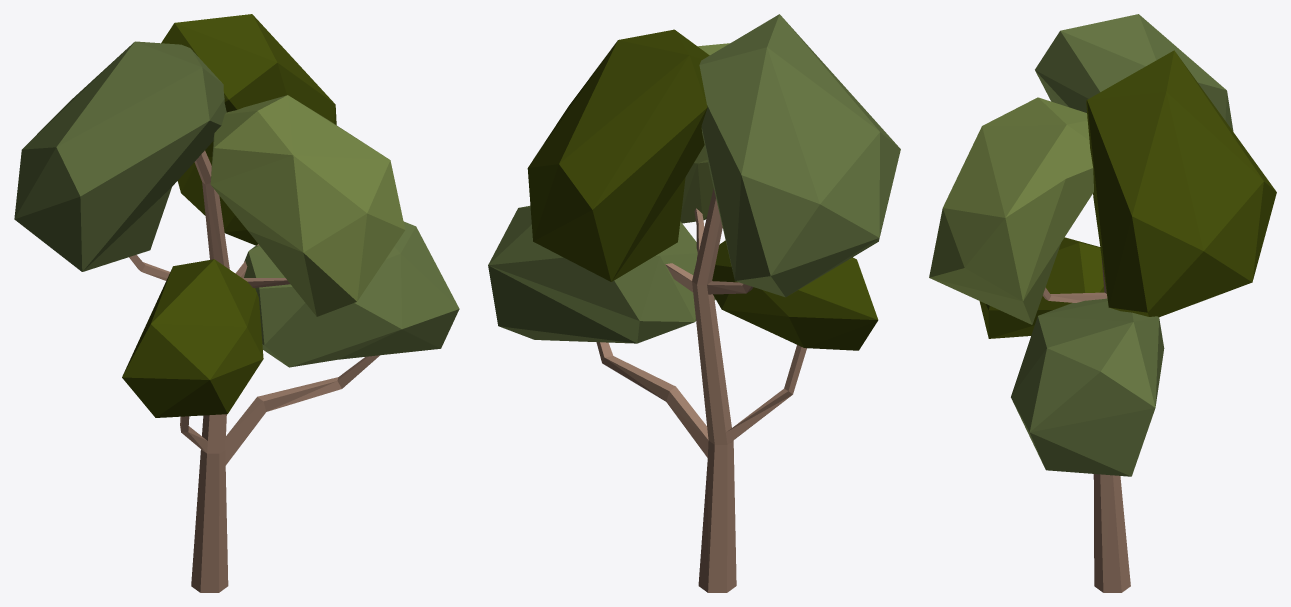
Rendered from tree_0403.dae.
3 renders of one model, left to right at view 1: azimuth 30°, elevation 25°; view 2: azimuth 150°, elevation 25°; view 3: azimuth 270°, elevation 25°, orthographic. The views are drawn at different scales.
Visible parts, largest first — view 1: tree_0403; view 2: tree_0403; view 3: tree_0403.
Boxes of the visible parts, bbox=[...] form: tree_0403: bbox=[14, 14, 459, 592]; tree_0403: bbox=[488, 14, 900, 592]; tree_0403: bbox=[929, 14, 1276, 592].
Size of the model in its own units: 3.33 by 2.65 by 4.55.
